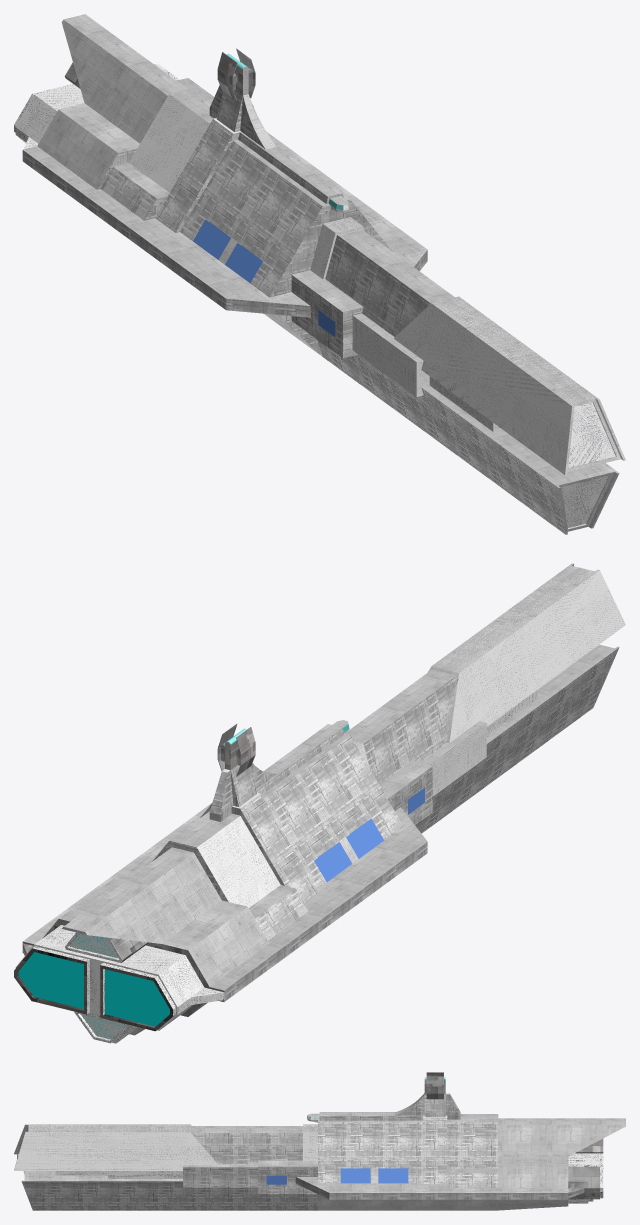
Rendered from Crucero+estelar+c2.obj.
3 renders of one model, top to bottom at view 1: azimuth 30°, elevation 25°; view 2: azimuth 150°, elevation 25°; view 3: azimuth 270°, elevation 25°, orthographic. The views are drawn at different scales.
Visible parts, largest first — view 1: SketchUp; view 2: SketchUp; view 3: SketchUp.
Boxes of the visible parts, x1,y1,x2,y2 form: SketchUp: [14, 14, 625, 534]; SketchUp: [14, 563, 625, 1043]; SketchUp: [14, 1072, 625, 1210].
Size of the model in its own units: 546 by 582 by 2445.
